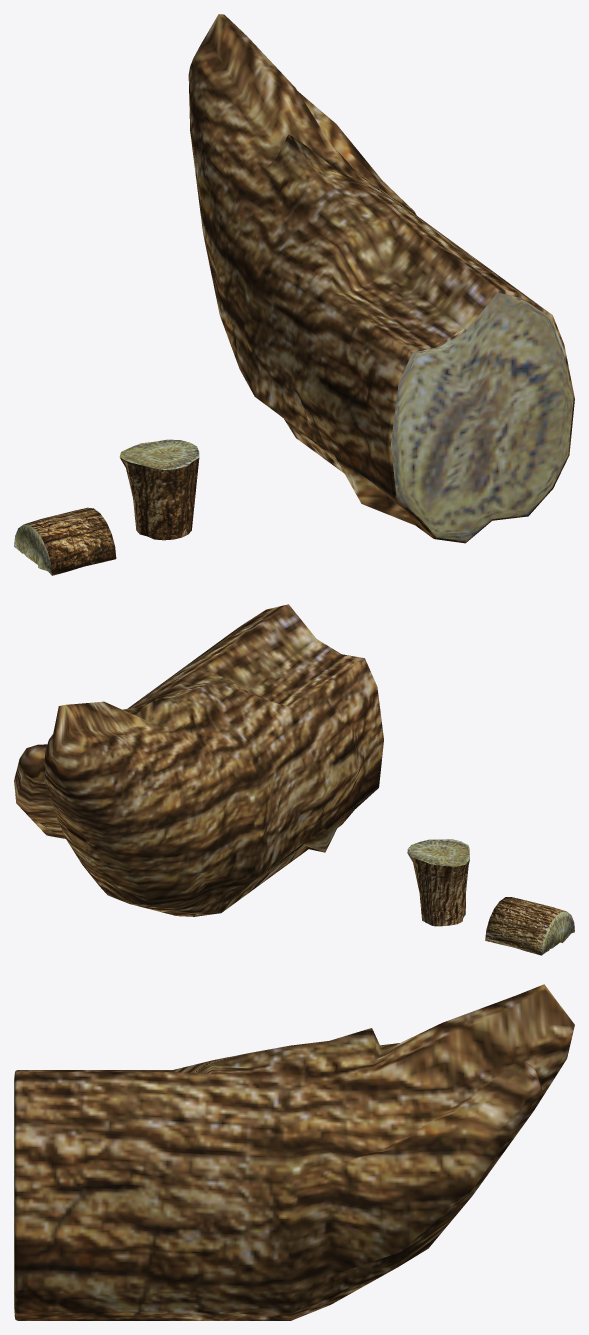
The model's file is dahuang.FBX.
3 views of the same model, one above another, from view 1: azimuth 30°, elevation 25°; view 2: azimuth 150°, elevation 25°; view 3: azimuth 270°, elevation 25° (orthographic). The views are drawn at different scales.
Parts seen in each view (by area): view 1: Cylinder003, Cylinder002, Cylinder001; view 2: Cylinder003, Cylinder002, Cylinder001; view 3: Cylinder003.
Part boxes in pixels (x1=…): Cylinder003: x1=188, y1=14, x2=574, y2=543; Cylinder002: x1=119, y1=439, x2=199, y2=540; Cylinder001: x1=14, y1=507, x2=116, y2=575; Cylinder003: x1=14, y1=604, x2=383, y2=916; Cylinder002: x1=407, y1=839, x2=469, y2=926; Cylinder001: x1=485, y1=897, x2=574, y2=955; Cylinder003: x1=14, y1=984, x2=574, y2=1320.
Size of the model in its own units: 503 by 336 by 522.
